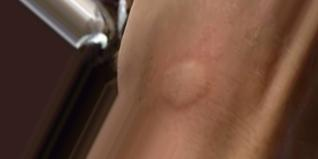Mosquito: (157, 61, 208, 108)
